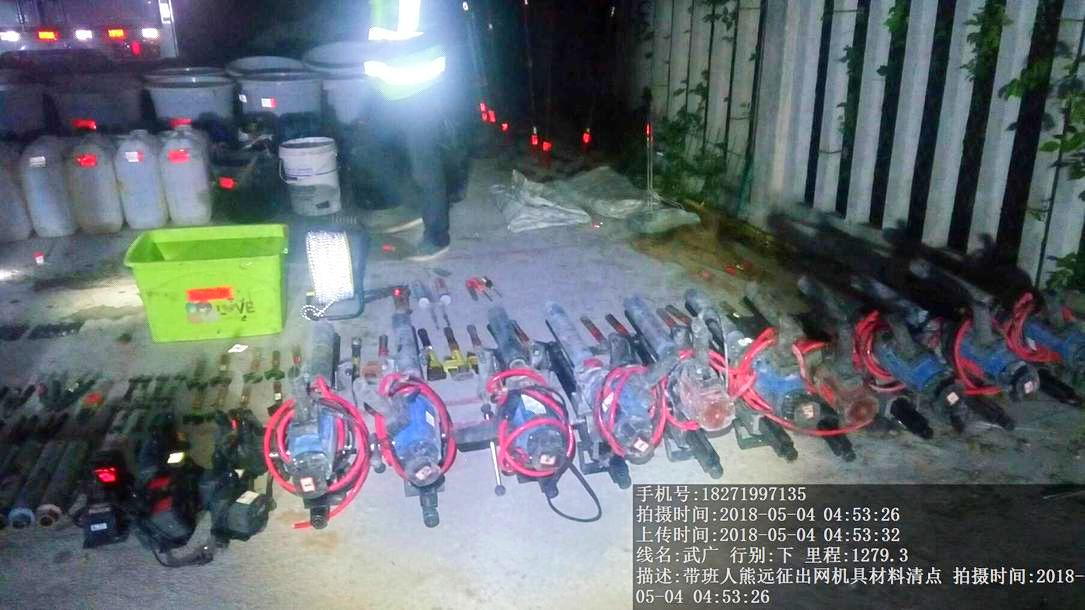GFJ: (553, 306, 675, 452), (288, 303, 371, 515), (468, 306, 565, 486), (371, 304, 451, 511), (635, 287, 731, 435)
T: (121, 219, 293, 340)
